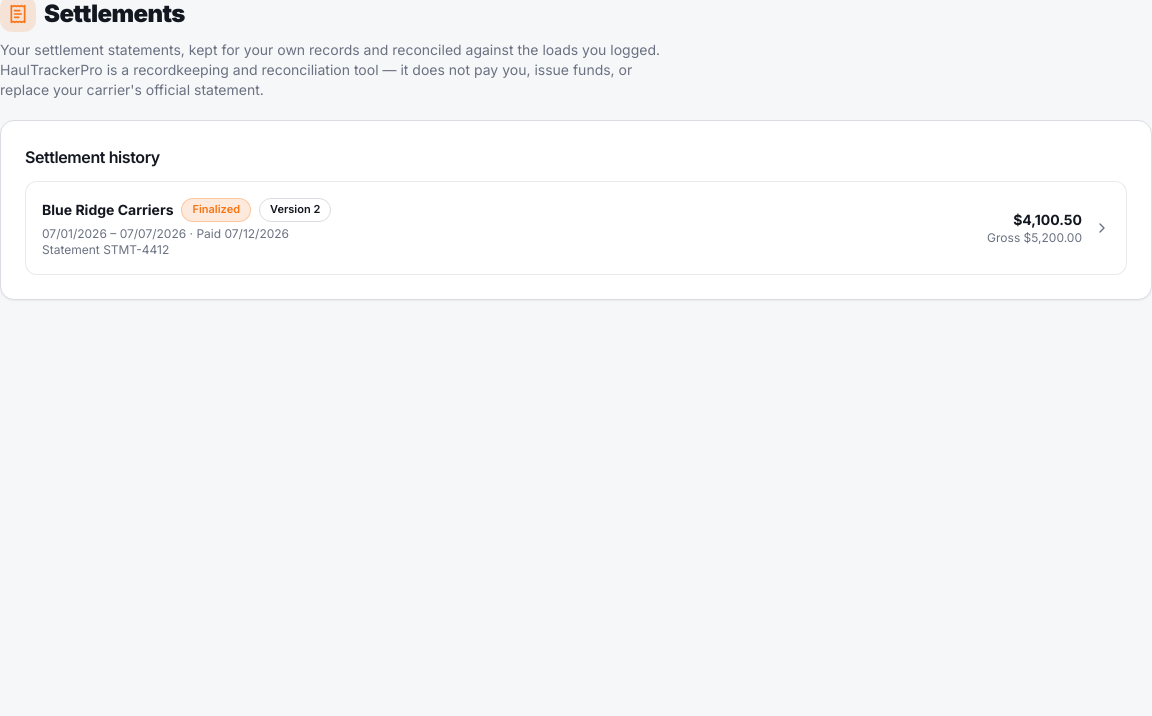
Test case: F. detail mounts only after selection and reads with exact ids › renders readable item details and read-only match state/confidence
Click the button with test id "settlement-card".
click(108, 209)  # box x1=25 y1=181 x2=1127 y2=275
(page scrolled)
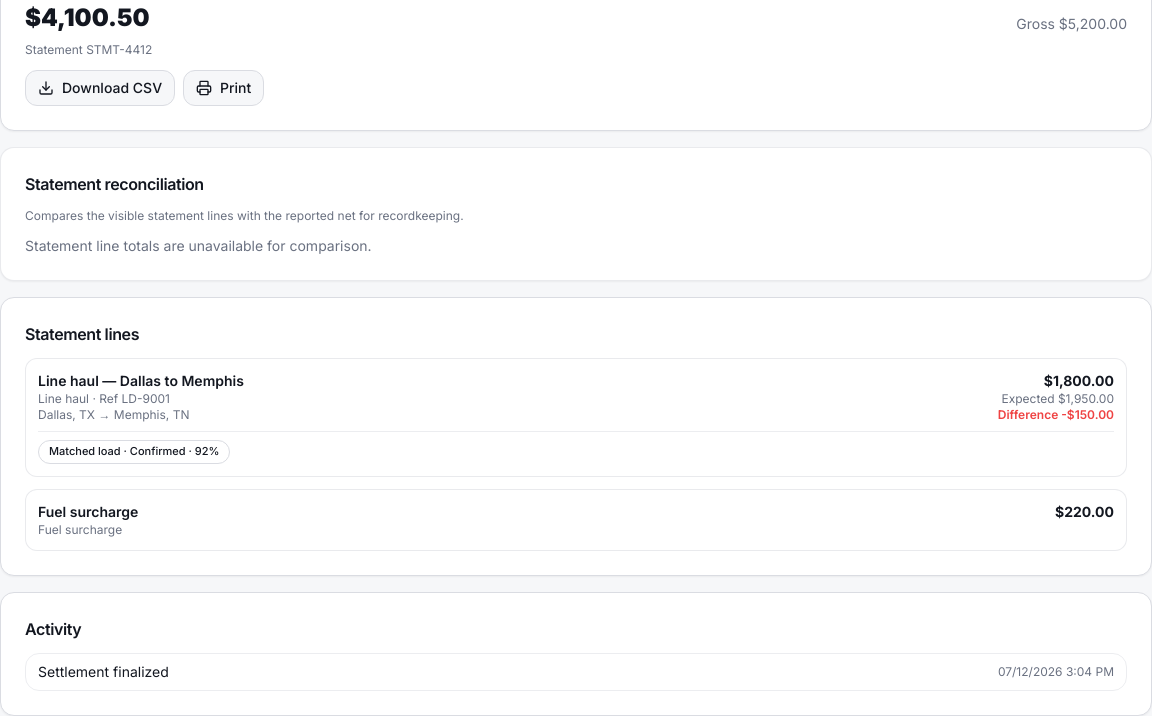
Result: the number of elements with test id "settlement-item-row" is 2 at x1=25 y1=358 x2=1127 y2=477; x1=25 y1=489 x2=1127 y2=551
Result: the element with test id "settlement-item-row" shows "Line haul — Dallas to Memphis" at x1=38 y1=372 x2=244 y2=389
Result: the element with test id "settlement-item-row" shows "LD-9001" at x1=89 y1=391 x2=170 y2=406
